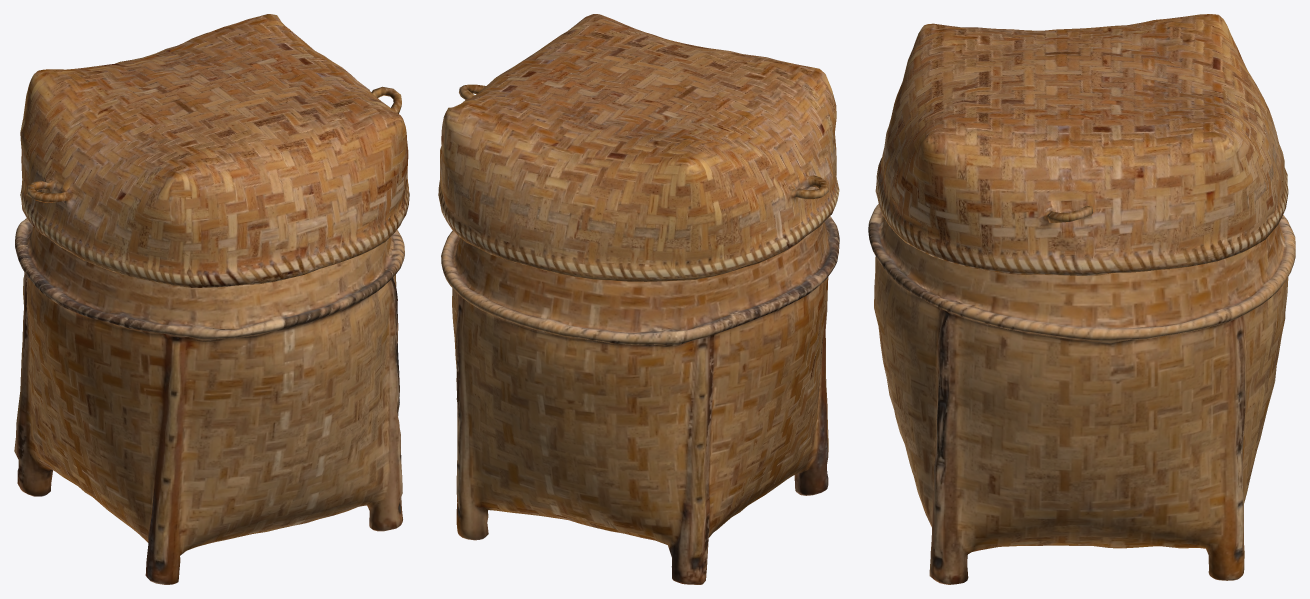
File: wicker_basket_closed.glb
The picture shows the model from 3 angles, left to right: view 1: azimuth 30°, elevation 25°; view 2: azimuth 150°, elevation 25°; view 3: azimuth 270°, elevation 25°; orthographic projection. The views are drawn at different scales.
Parts seen in each view (by area): view 1: wicker_basket_02_base; view 2: wicker_basket_02_base; view 3: wicker_basket_02_base.
Part boxes in pixels (box(x1,y1,x2,y2)): wicker_basket_02_base: box(14, 14, 409, 584); wicker_basket_02_base: box(438, 14, 839, 584); wicker_basket_02_base: box(868, 14, 1295, 584).
Size of the model in its own units: 0.2302 by 0.2538 by 0.2163.
Materials: 1 (1 with a texture image).
